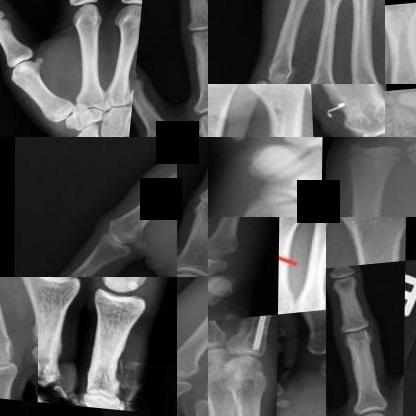fracture: (349, 137, 415, 177), (337, 99, 385, 136), (247, 320, 278, 369), (261, 98, 300, 136), (38, 352, 63, 398), (120, 87, 140, 111)
